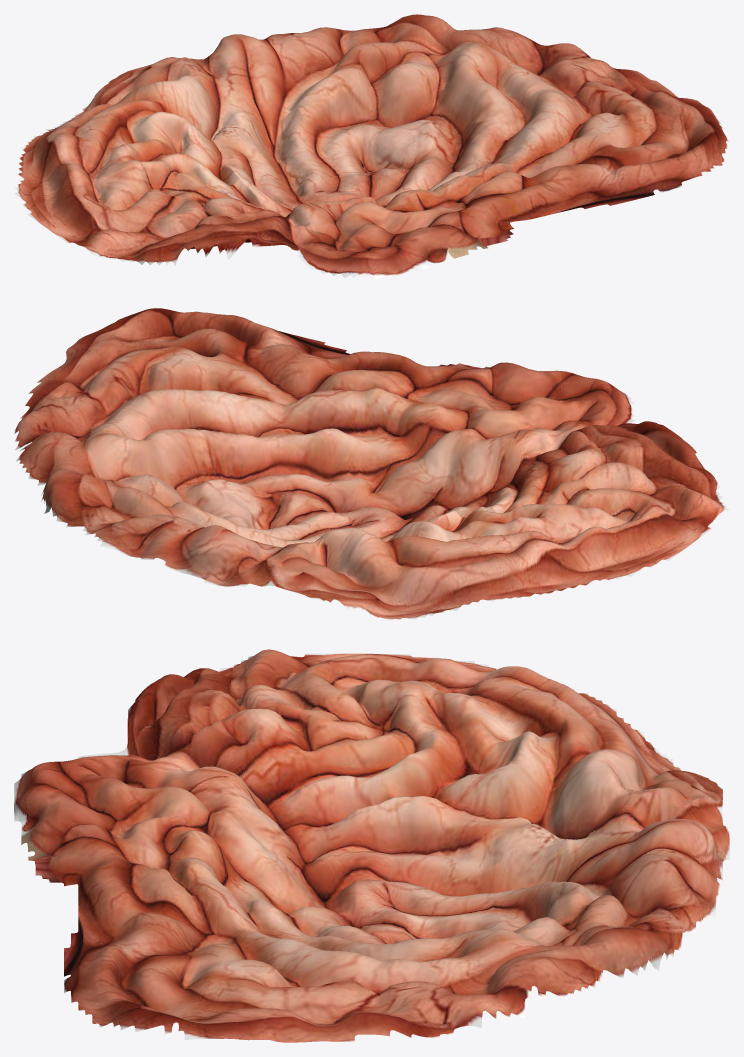
File: Remeshed brain.fbx
3 views of the same model, one above another, from view 1: azimuth 30°, elevation 25°; view 2: azimuth 150°, elevation 25°; view 3: azimuth 270°, elevation 25° (orthographic). The views are drawn at different scales.
Parts seen in each view (by area): view 1: Brain_terrain; view 2: Brain_terrain; view 3: Brain_terrain.
Boxes of the visible parts, x1,y1,x2,y2 form: Brain_terrain: [14, 14, 729, 279]; Brain_terrain: [14, 308, 729, 620]; Brain_terrain: [14, 649, 729, 1042].
Bounding box in the file's own units: 2939 × 393 × 2265.
Materials: 1 (1 with a texture image).
